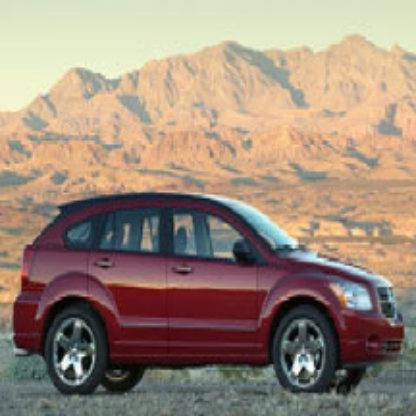Vehicle: (16, 190, 406, 398)
